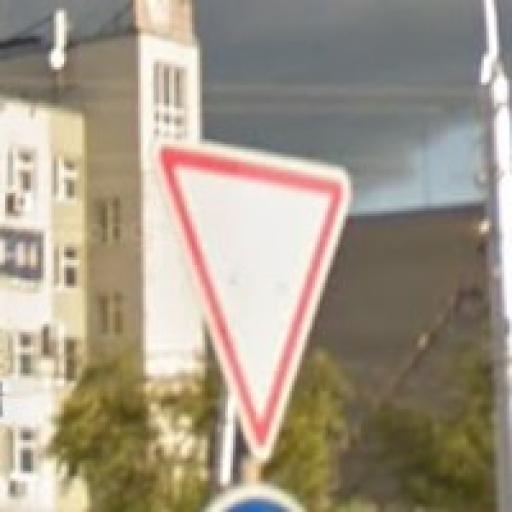traffic_sign: (155, 140, 352, 459)
